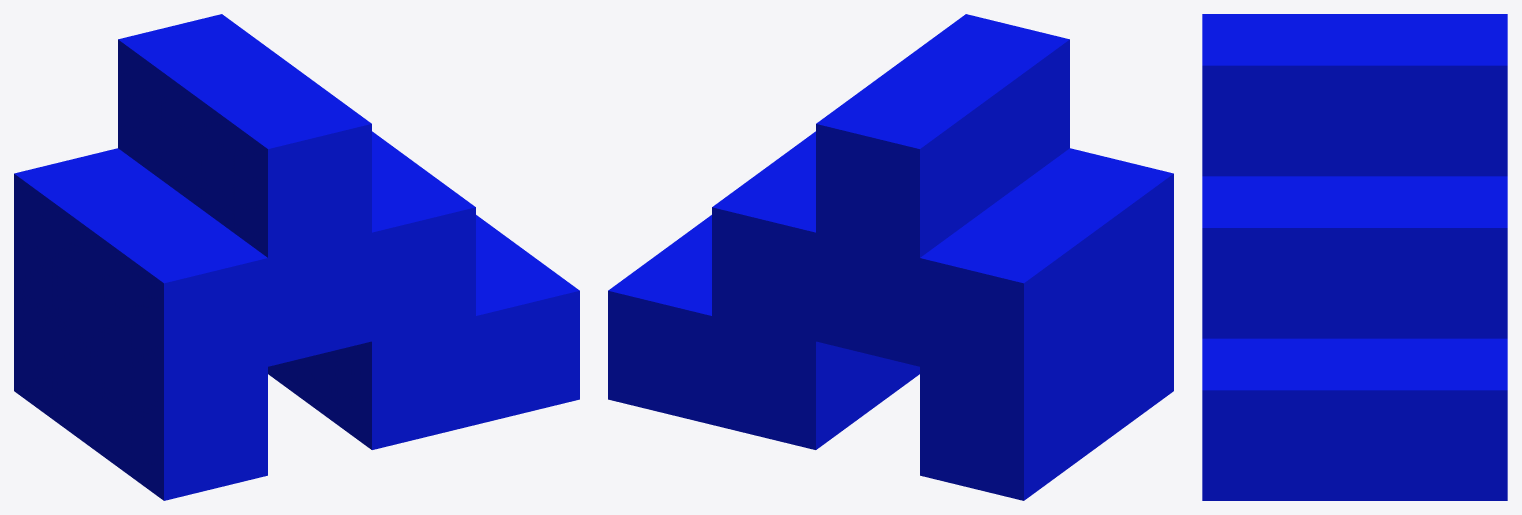
File: glyph-alxmtnc-3d-v3.glb
3 renders of one model, left to right at view 1: azimuth 30°, elevation 25°; view 2: azimuth 150°, elevation 25°; view 3: azimuth 270°, elevation 25°, orthographic.
Visible parts, largest first — view 1: ALXMTNC_Stairs_Sharp; view 2: ALXMTNC_Stairs_Sharp; view 3: ALXMTNC_Stairs_Sharp.
Part boxes in pixels (x1,y1,x2,y2): ALXMTNC_Stairs_Sharp: (14,14,579,500); ALXMTNC_Stairs_Sharp: (608,14,1173,500); ALXMTNC_Stairs_Sharp: (1202,14,1507,500).
Size of the model in its own units: 4 by 3 by 2.5.
